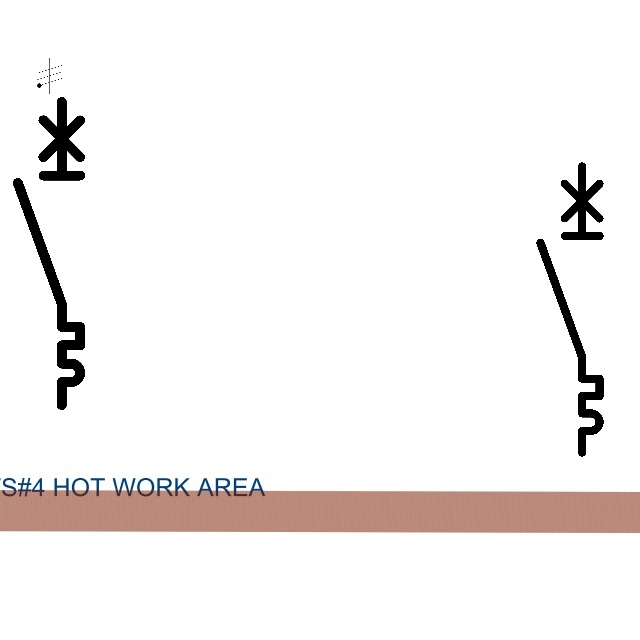interruptor_termomagnetico: (10, 94, 88, 413), (533, 159, 607, 460)
